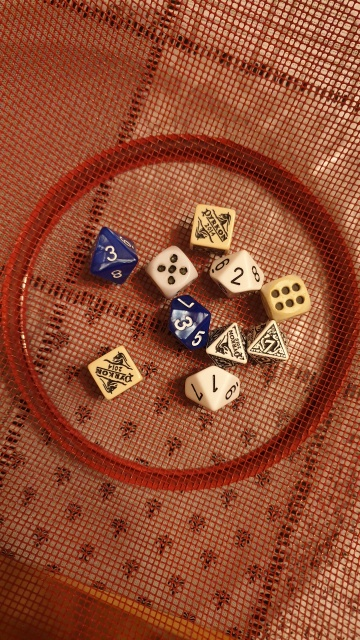d10-1: (184, 363, 242, 413)
d10-2: (204, 248, 266, 298)
d10-3: (84, 223, 143, 289), (163, 289, 213, 354)
d6-5: (148, 248, 200, 298)
d6-6: (260, 272, 313, 320)
d6p-1: (86, 342, 145, 404), (187, 204, 239, 253)
d8p-1: (204, 321, 249, 368)
d8p-7: (243, 318, 292, 364)
